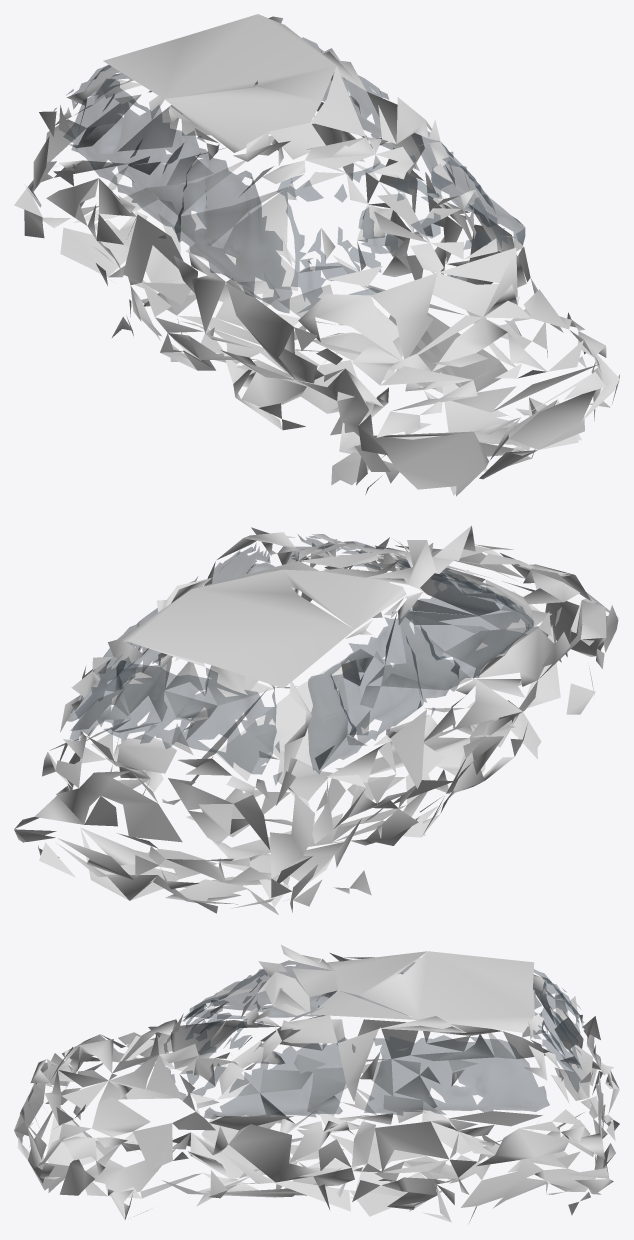
The model's file is maruti_lod.glb.
The picture shows the model from 3 angles, top to bottom: view 1: azimuth 30°, elevation 25°; view 2: azimuth 150°, elevation 25°; view 3: azimuth 270°, elevation 25°; orthographic projection. The views are drawn at different scales.
Parts seen in each view (by area): view 1: maruti, glass; view 2: maruti, glass; view 3: maruti, glass.
Boxes of the visible parts, x1,y1,x2,y2 form: maruti: (14,14,619,496); glass: (53,37,525,313); maruti: (14,525,618,914); glass: (67,536,534,785); maruti: (14,945,619,1222); glass: (164,960,581,1118).
Size of the model in its own units: 1.54 by 1.34 by 3.33.
